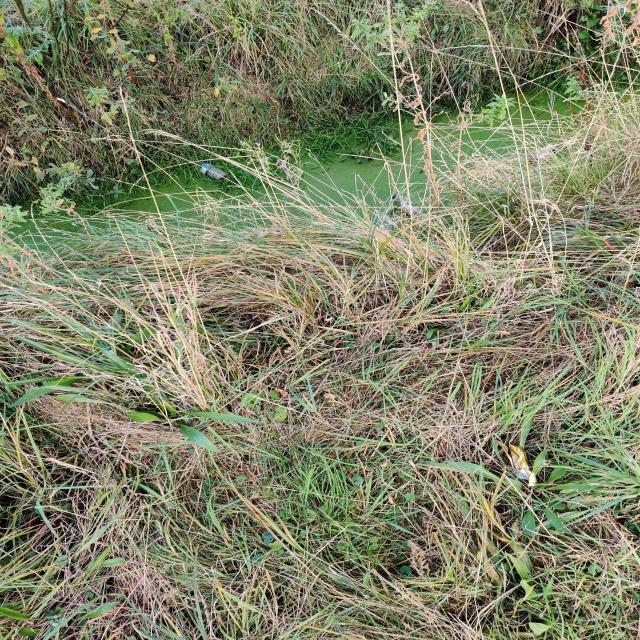litter: (199, 163, 228, 181), (232, 318, 251, 327)
